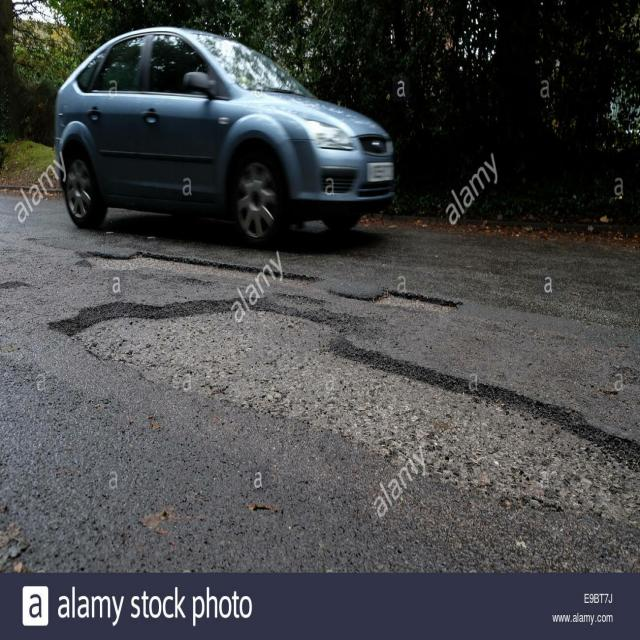Pothole: (57, 227, 612, 547)
